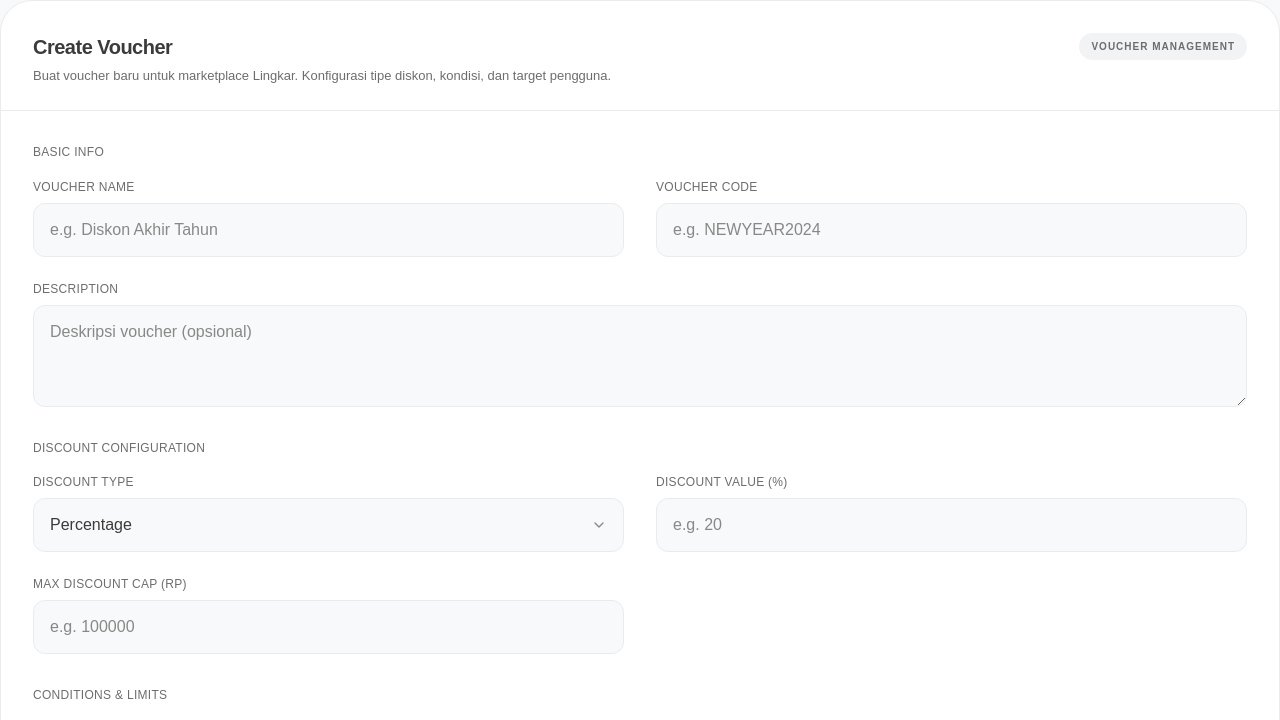
Scenario: VoucherCreatePage › conditional field rendering per discount_type › shows discount_value (Rp) and hides max_discount_cap for fixed_amount
Check: the heading "Create Voucher" is shown, box [33,36,172,58]
Click the button with id "discount_type".
click(91, 525)  # box [33,498,624,552]
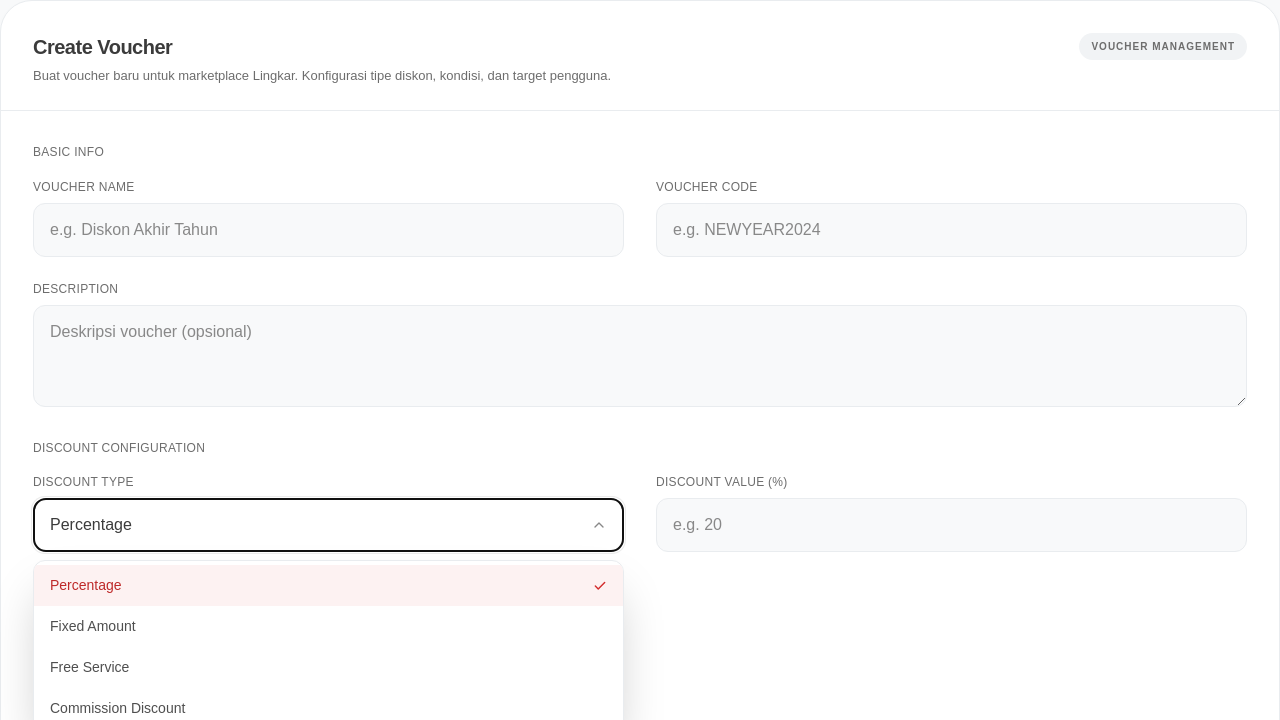
Click the option "Fixed Amount".
click(93, 626)  # box [50,618,136,634]
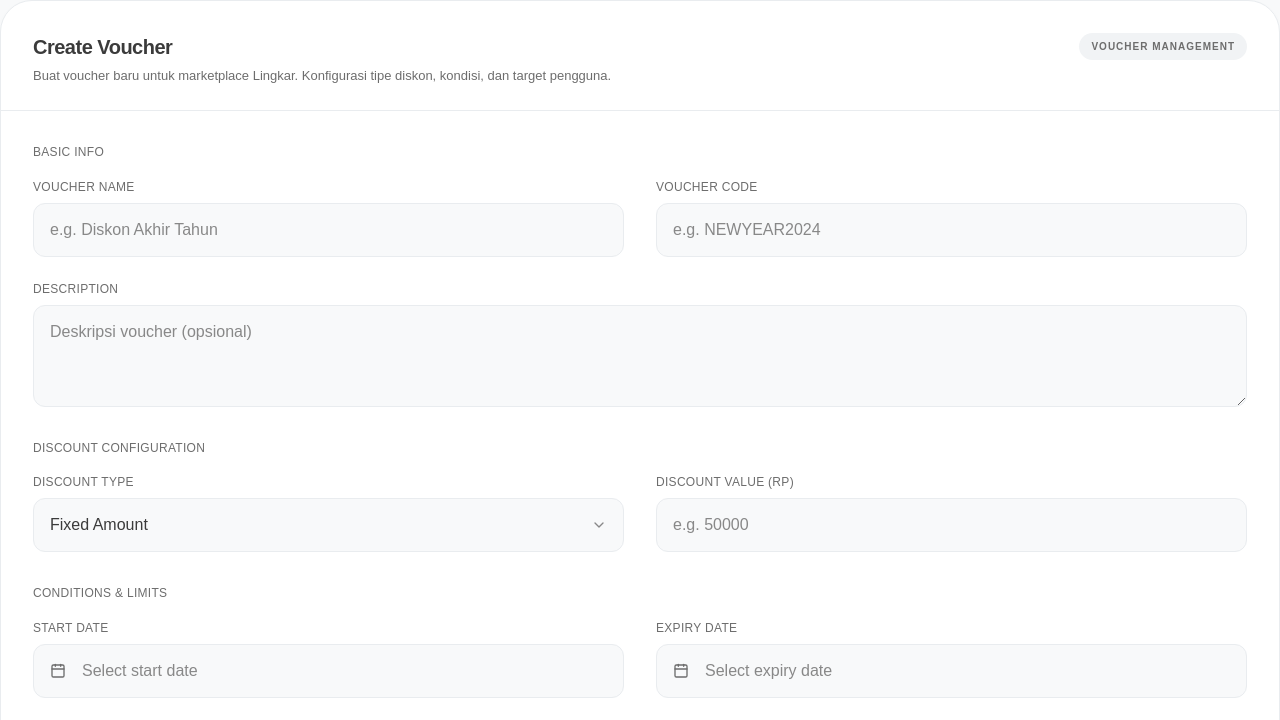
Check: the number field labelled "Discount Value (Rp)" is shown, box [657,499,1246,551]
Check: the label labelled "Max Discount Cap (Rp)" is gone
